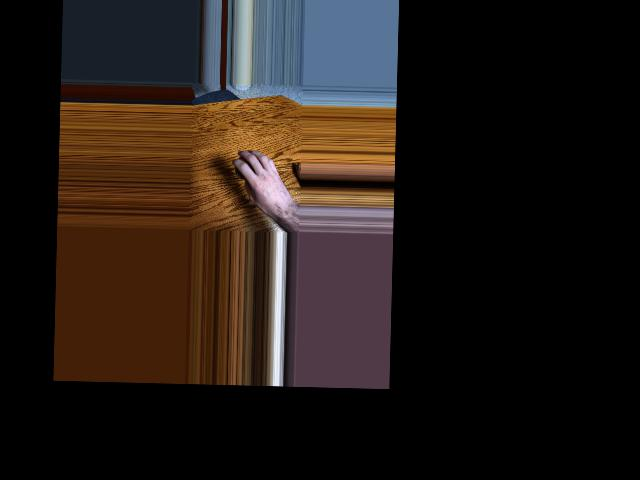onion: (234, 153, 259, 183)
